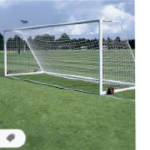goals: (2, 18, 136, 96)
